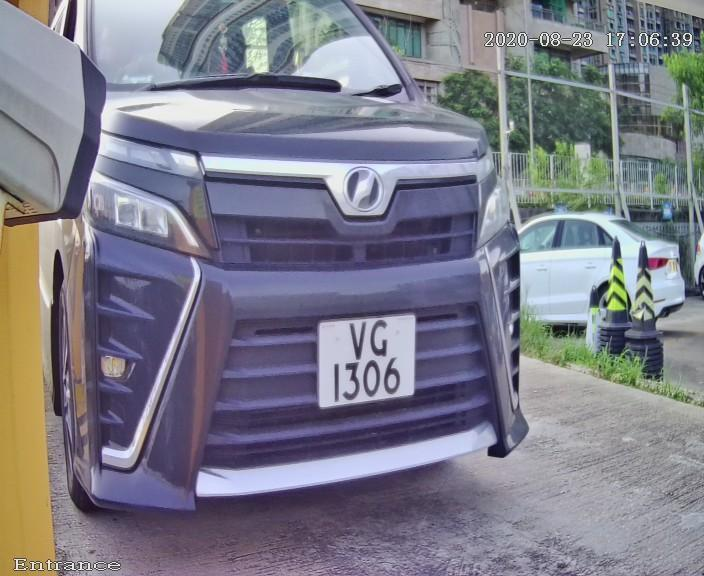Car: (13, 3, 560, 564)
License Plate: (309, 301, 422, 425)
